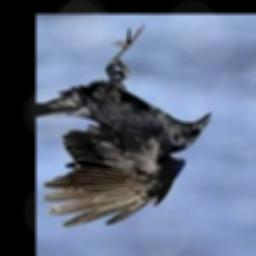Crow: (36, 20, 214, 227)
